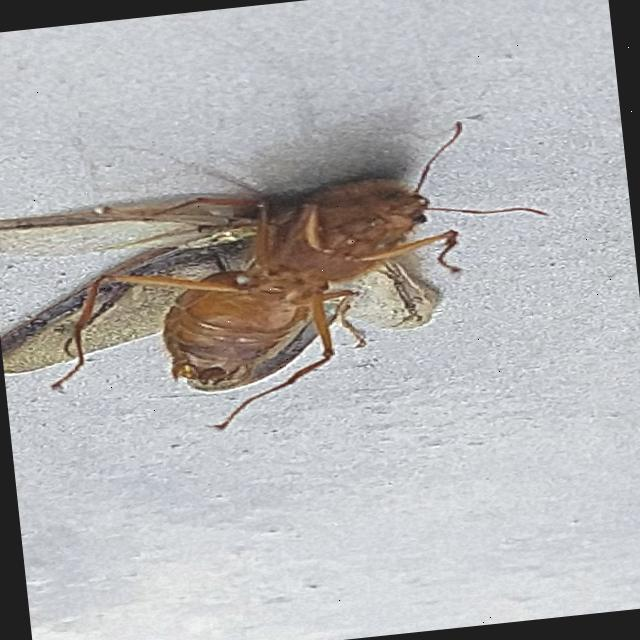Dead-Male-Alate: (0, 112, 569, 452)
